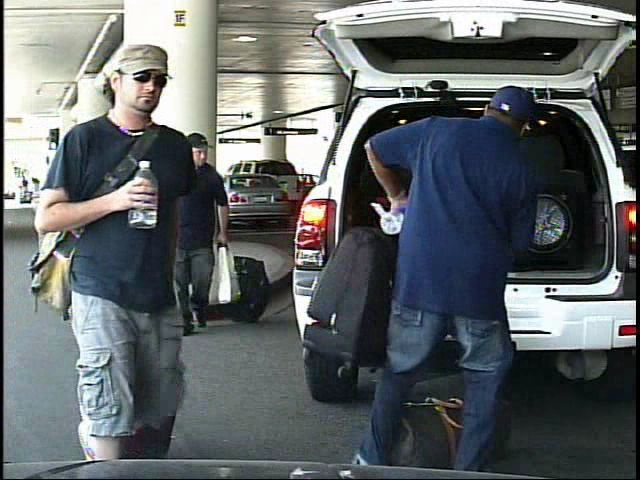person: (340, 76, 549, 471), (29, 45, 201, 471), (143, 121, 253, 336), (13, 171, 23, 202)
